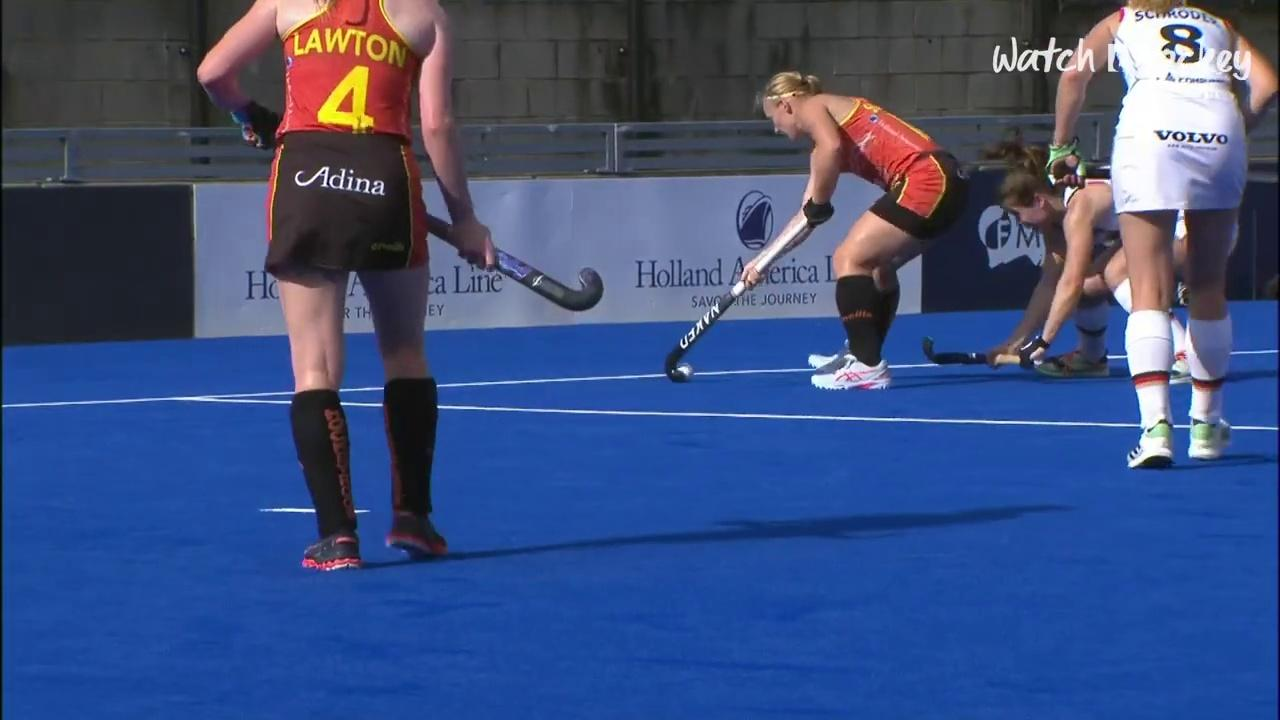ball: (670, 356, 701, 383)
